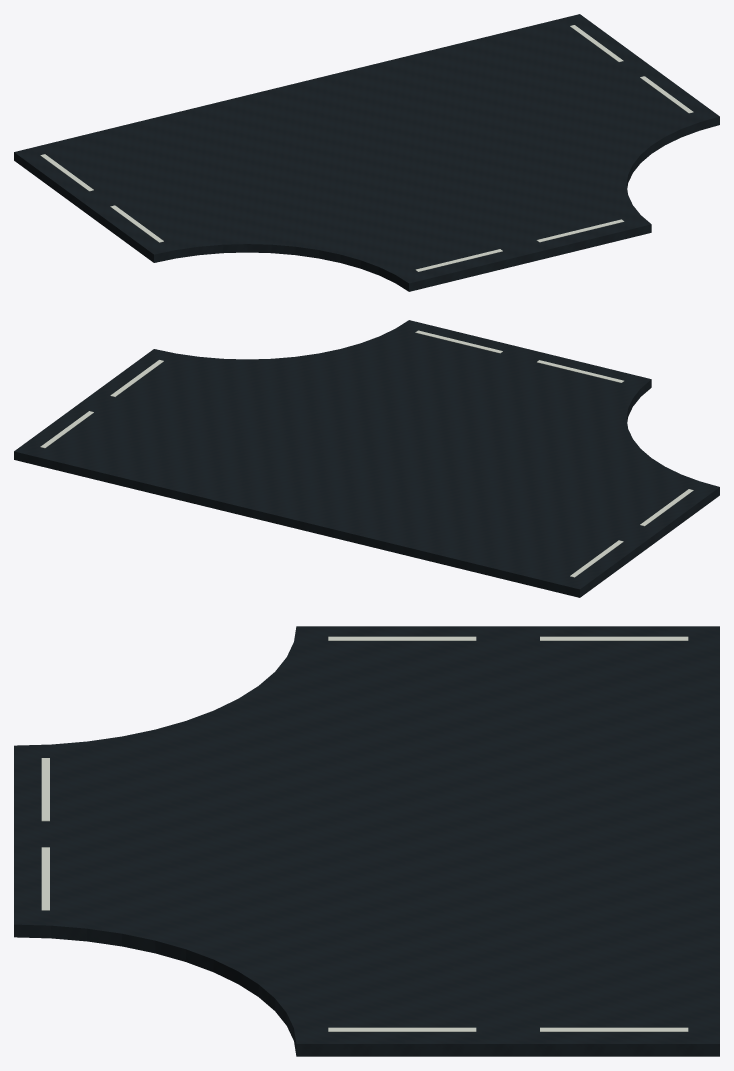
The model's file is Transit_Road_2L_TJunction_R4.glb.
The picture shows the model from 3 angles, top to bottom: view 1: azimuth 30°, elevation 25°; view 2: azimuth 150°, elevation 25°; view 3: azimuth 270°, elevation 25°; orthographic projection. The views are drawn at different scales.
Parts seen in each view (by area): view 1: Transit_Road_2L_TJunction_R4_Surface, Transit_Road_2L_TJunction_R4_MarkStop2, Transit_Road_2L_TJunction_R4_MarkStop0, Transit_Road_2L_TJunction_R4_MarkStop1; view 2: Transit_Road_2L_TJunction_R4_Surface, Transit_Road_2L_TJunction_R4_MarkStop2, Transit_Road_2L_TJunction_R4_MarkStop1, Transit_Road_2L_TJunction_R4_MarkStop0; view 3: Transit_Road_2L_TJunction_R4_Surface, Transit_Road_2L_TJunction_R4_MarkStop0, Transit_Road_2L_TJunction_R4_MarkStop1, Transit_Road_2L_TJunction_R4_MarkStop2.
Boxes of the visible parts, left/top/right/bottom form: Transit_Road_2L_TJunction_R4_Surface: left=14, top=14, right=719, bottom=291; Transit_Road_2L_TJunction_R4_MarkStop2: left=415, top=219, right=624, bottom=271; Transit_Road_2L_TJunction_R4_MarkStop0: left=40, top=154, right=163, bottom=242; Transit_Road_2L_TJunction_R4_MarkStop1: left=570, top=25, right=693, bottom=113; Transit_Road_2L_TJunction_R4_Surface: left=14, top=320, right=719, bottom=597; Transit_Road_2L_TJunction_R4_MarkStop2: left=415, top=330, right=623, bottom=382; Transit_Road_2L_TJunction_R4_MarkStop1: left=40, top=360, right=163, bottom=448; Transit_Road_2L_TJunction_R4_MarkStop0: left=570, top=489, right=693, bottom=577; Transit_Road_2L_TJunction_R4_Surface: left=14, top=626, right=719, bottom=1056; Transit_Road_2L_TJunction_R4_MarkStop0: left=328, top=636, right=688, bottom=640; Transit_Road_2L_TJunction_R4_MarkStop1: left=328, top=1027, right=688, bottom=1031; Transit_Road_2L_TJunction_R4_MarkStop2: left=41, top=758, right=49, bottom=910.
Size of the model in its own units: 14 by 0.2165 by 10.
Materials: 2 (1 with a texture image).
